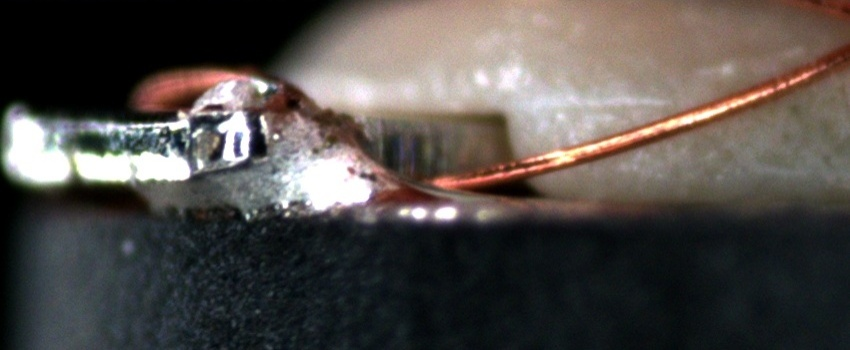DL: (535, 77, 686, 133)
TE: (127, 63, 275, 106)
